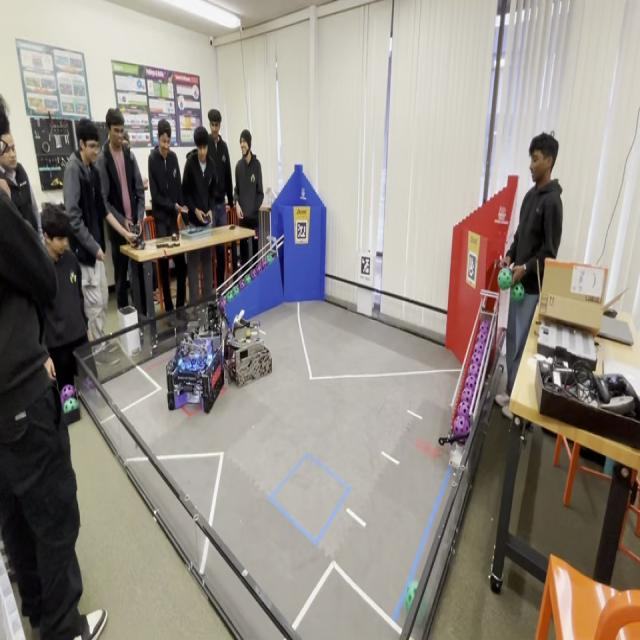artifact_green: (405, 581, 417, 611), (498, 267, 512, 290), (416, 598, 427, 625), (511, 283, 525, 302), (60, 386, 75, 402), (64, 399, 77, 413), (83, 377, 95, 391), (226, 290, 234, 303), (255, 263, 263, 275), (71, 398, 78, 410), (227, 291, 234, 302), (244, 274, 251, 284), (219, 298, 225, 309), (261, 258, 267, 269), (267, 254, 273, 264), (239, 280, 245, 290), (233, 285, 239, 295)
artifact_purple: (453, 415, 469, 437), (61, 386, 75, 404), (63, 399, 77, 413), (461, 388, 473, 404), (474, 337, 485, 354), (457, 402, 469, 417), (466, 375, 476, 391), (468, 363, 479, 376), (474, 342, 485, 354), (83, 377, 94, 389), (476, 336, 487, 348), (477, 331, 488, 342), (472, 352, 481, 365), (480, 320, 490, 331), (226, 290, 234, 302), (481, 320, 490, 330), (478, 328, 489, 336), (228, 291, 235, 302), (250, 268, 257, 279), (244, 274, 251, 284), (219, 298, 225, 309), (239, 280, 245, 290), (256, 264, 262, 274), (262, 259, 267, 269), (234, 285, 239, 295)
